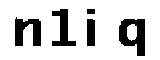1: (49, 5, 77, 50)
i: (83, 5, 102, 51)
n: (12, 15, 44, 50)
q: (113, 14, 148, 60)
